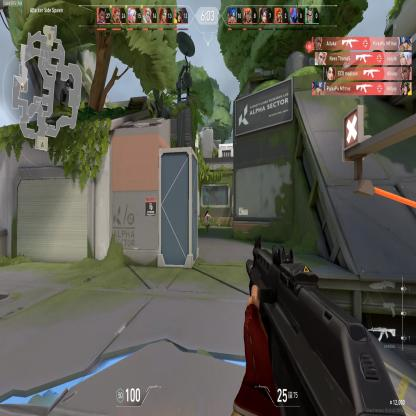enemy: (204, 208, 211, 232)
